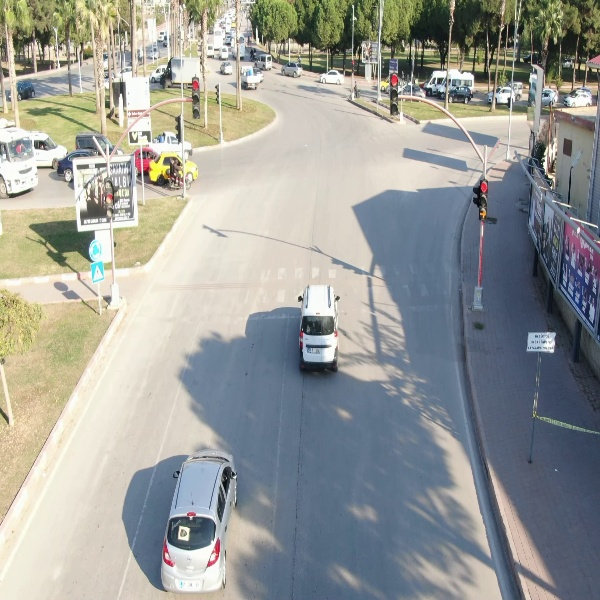car: (155, 449, 246, 592), (296, 280, 343, 380), (563, 87, 595, 109), (486, 82, 516, 105), (444, 85, 476, 105), (319, 66, 350, 86), (254, 51, 276, 73), (279, 59, 305, 77), (220, 58, 233, 77)
